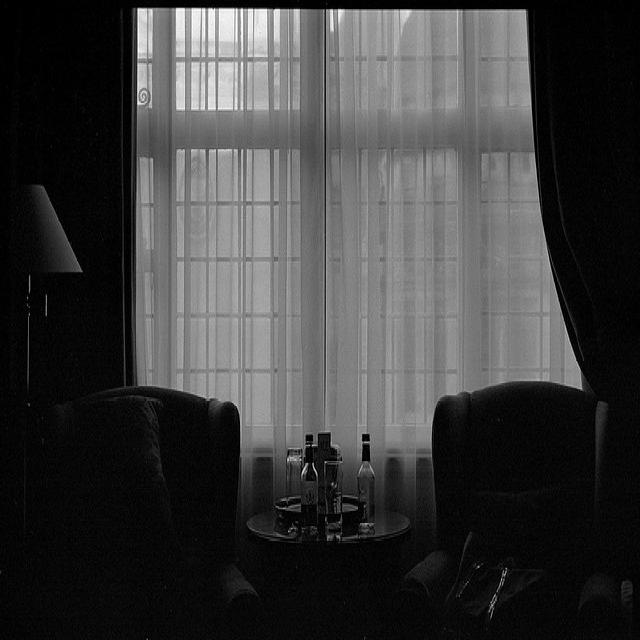Bottle: (351, 421, 385, 547), (275, 433, 309, 528), (325, 443, 349, 554), (301, 428, 322, 547)
Table: (241, 494, 413, 618)
chair: (0, 367, 241, 640), (413, 360, 640, 640)
